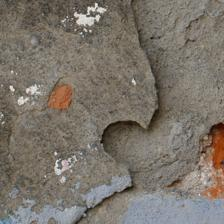Crack: (19, 27, 131, 138), (0, 60, 118, 130), (28, 80, 100, 116)
